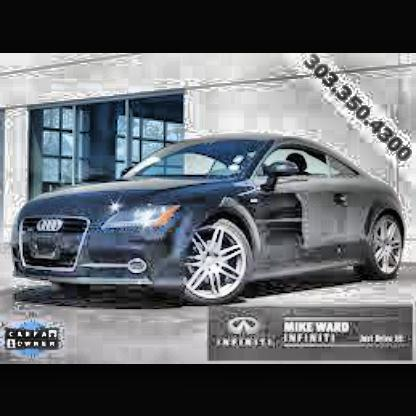Audi TTS Coupe 2012: (12, 135, 407, 303)
